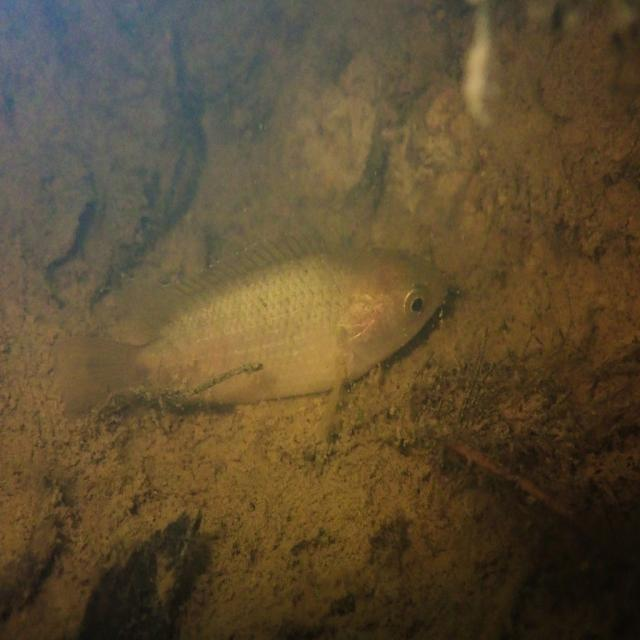Climbing-Perch: (53, 225, 485, 448)
